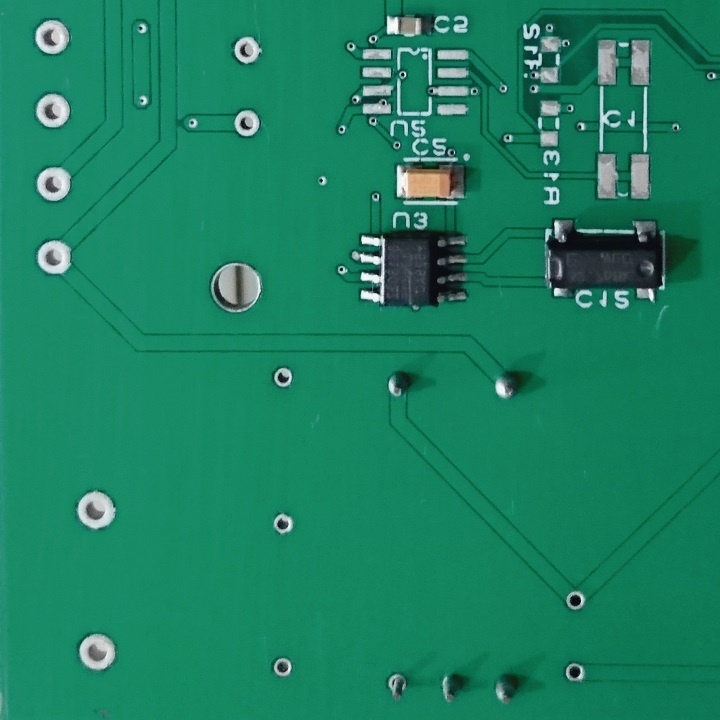F: (74, 488, 119, 535), (76, 631, 119, 675), (32, 15, 72, 55), (35, 166, 75, 204), (33, 92, 73, 129), (35, 240, 73, 278), (231, 34, 264, 68), (232, 108, 264, 140), (384, 670, 409, 700), (561, 660, 588, 683), (272, 510, 295, 536), (564, 586, 585, 612), (272, 366, 295, 389), (273, 656, 294, 679)
